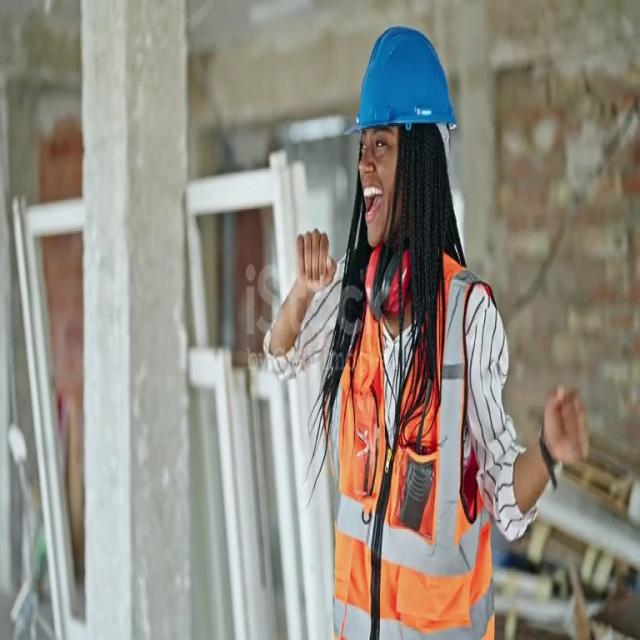capacete: (339, 21, 459, 160)
